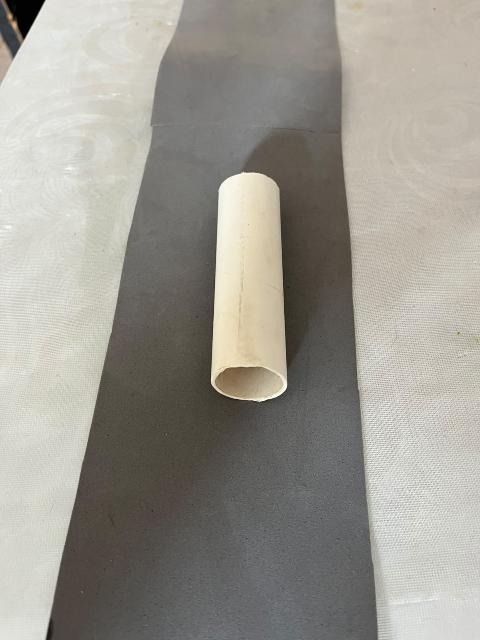PVC: (184, 150, 321, 469)
